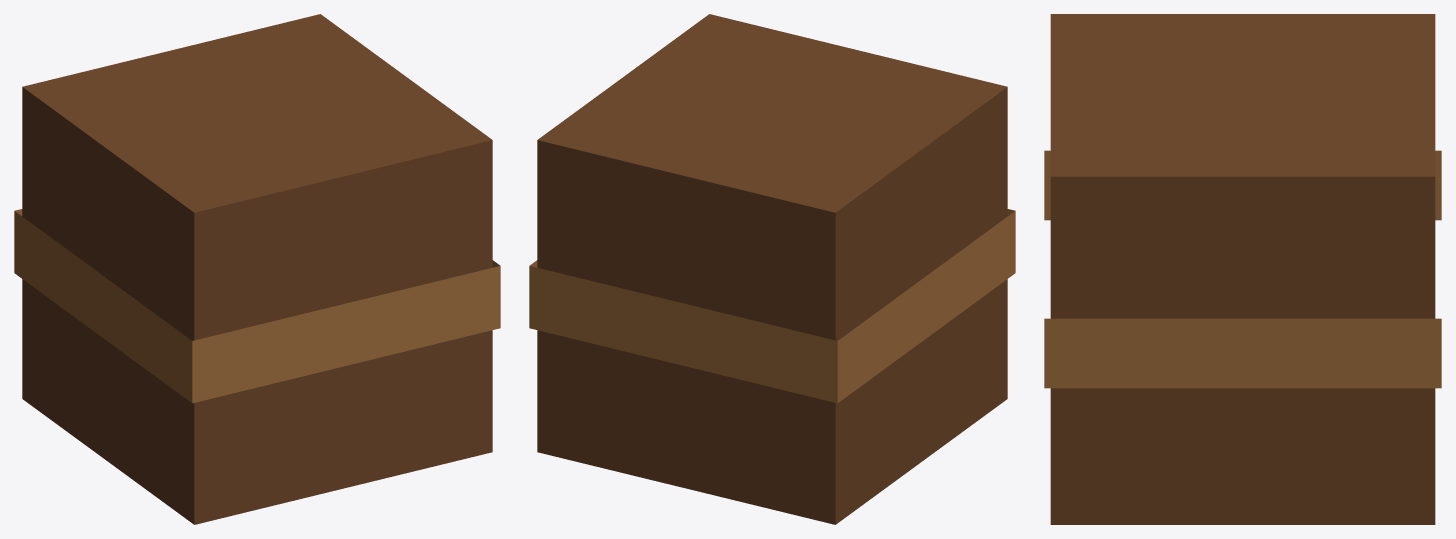
File: primitive_crate.obj
3 views of the same model, side by side, from view 1: azimuth 30°, elevation 25°; view 2: azimuth 150°, elevation 25°; view 3: azimuth 270°, elevation 25° (orthographic). The views are drawn at different scales.
Visible parts, largest first — view 1: primitive_crate; view 2: primitive_crate; view 3: primitive_crate.
Part boxes in pixels (x1,y1,x2,y2): primitive_crate: [14, 14, 500, 524]; primitive_crate: [529, 14, 1015, 524]; primitive_crate: [1044, 14, 1441, 524].
Size of the model in its own units: 0.93 by 0.9 by 0.93.
